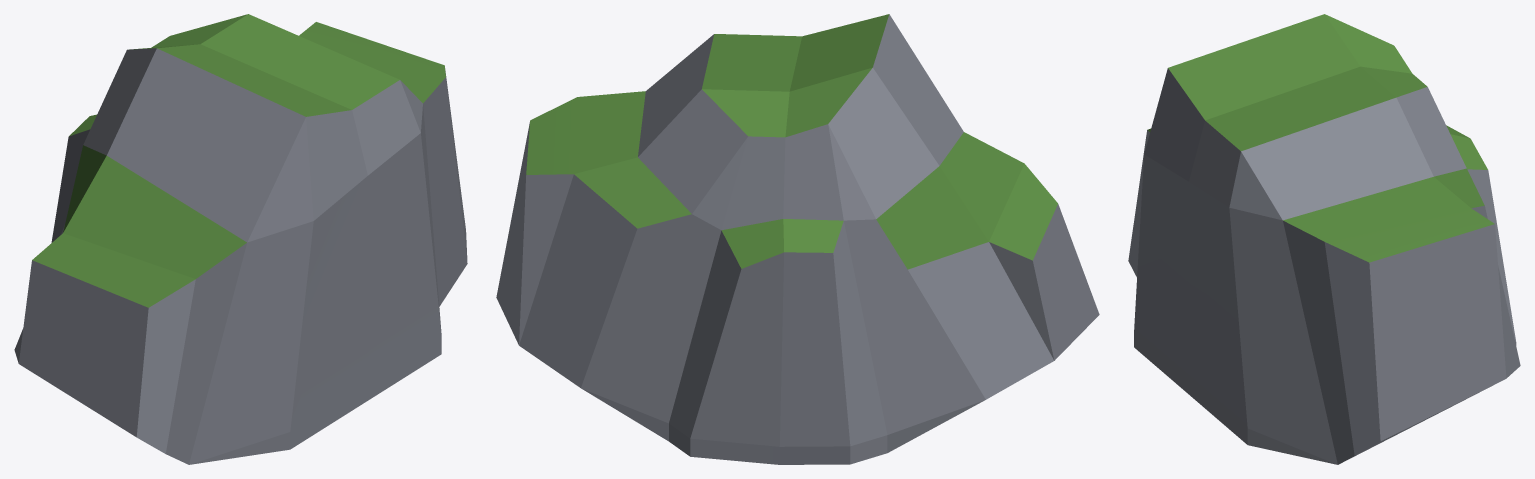
The model's file is Rock_Moss_4.glb.
3 views of the same model, side by side, from view 1: azimuth 30°, elevation 25°; view 2: azimuth 150°, elevation 25°; view 3: azimuth 270°, elevation 25° (orthographic). The views are drawn at different scales.
Parts seen in each view (by area): view 1: Rock_Moss_4; view 2: Rock_Moss_4; view 3: Rock_Moss_4.
Part boxes in pixels (left/top/right/bottom): Rock_Moss_4: left=14, top=14, right=467, bottom=464; Rock_Moss_4: left=496, top=14, right=1099, bottom=464; Rock_Moss_4: left=1128, top=14, right=1520, bottom=464.
Bounding box in the file's own units: 1.22 × 0.7889 × 0.8813.
